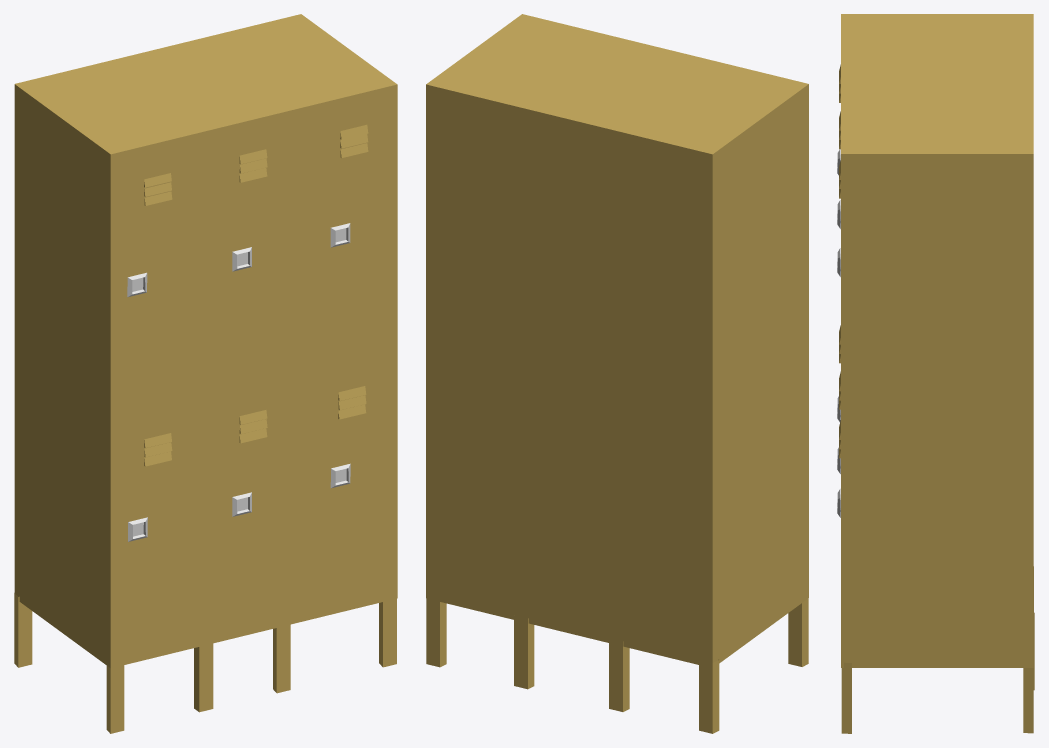
The model's file is lockers.fbx.
3 renders of one model, left to right at view 1: azimuth 30°, elevation 25°; view 2: azimuth 150°, elevation 25°; view 3: azimuth 270°, elevation 25°, orthographic.
Visible parts, largest first — view 1: lockers_, legs, lock_; view 2: lockers_, legs; view 3: lockers_, legs, lock_.
Part boxes in pixels (x1,y1,x2,y2): lockers_: (14, 14, 397, 668); legs: (14, 593, 396, 733); lock_: (127, 223, 350, 541); lockers_: (426, 14, 808, 668); legs: (426, 598, 808, 733); lockers_: (839, 14, 1033, 667); legs: (841, 566, 1034, 733); lock_: (837, 149, 840, 517).
Bounding box in the file's own units: 120 × 230 × 70.87.
